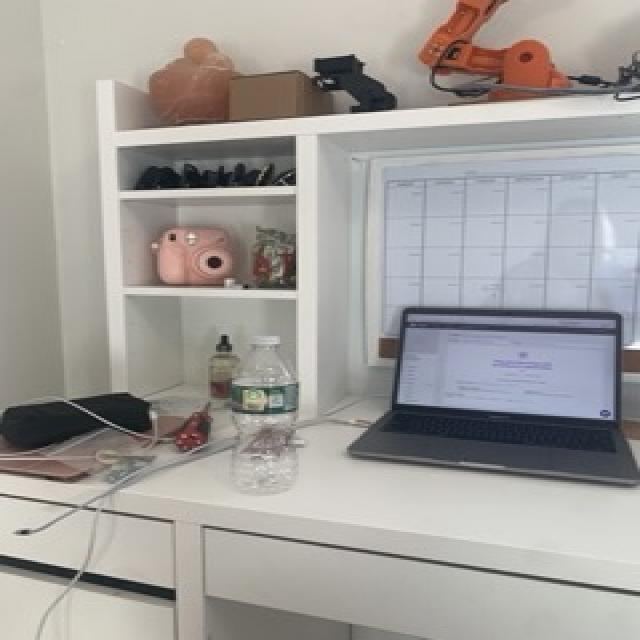water_bottle: (231, 332, 306, 500)
